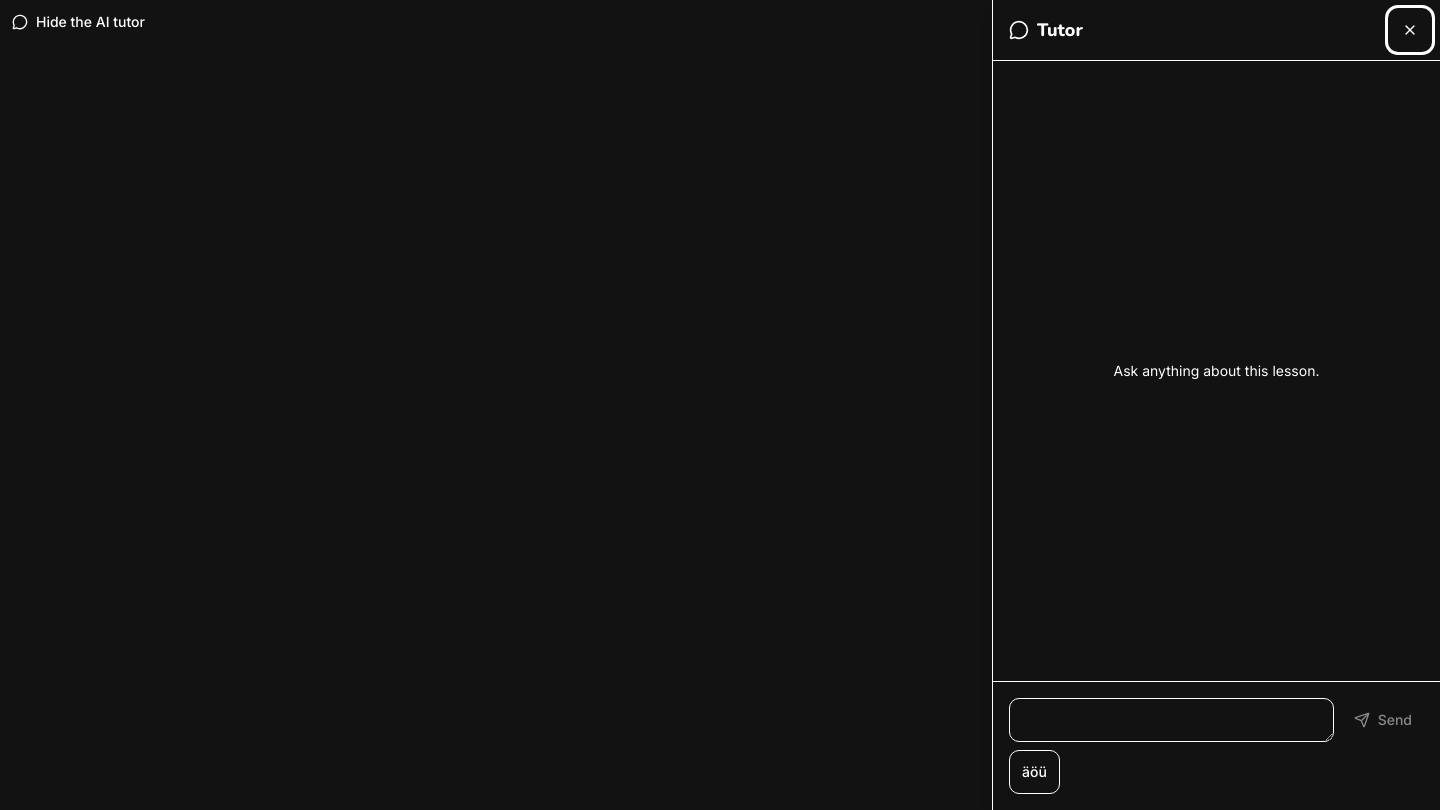
Test: LessonChat › keeps the message and shows a Settings link when the AI fails
The image size is (1440, 810).
Expected: the text "Ask anything about this lesson." is shown, [1114,361,1320,381]
Type "Hallo?" into the text box named "Your message" at coordinates (1171, 720), box [1009,698,1334,742]
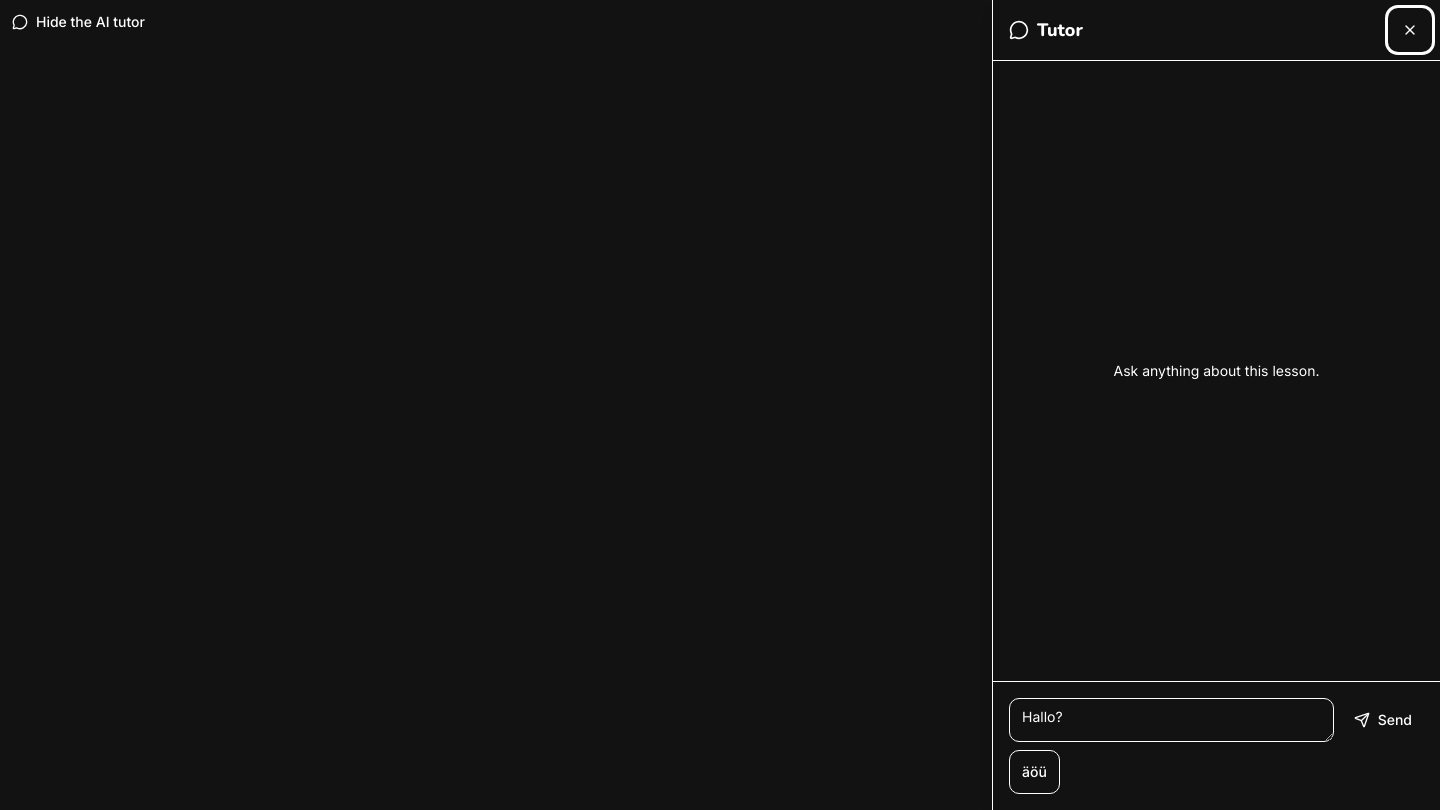
Click the button "Send" at coordinates (1383, 720), box [1342,698,1424,742]
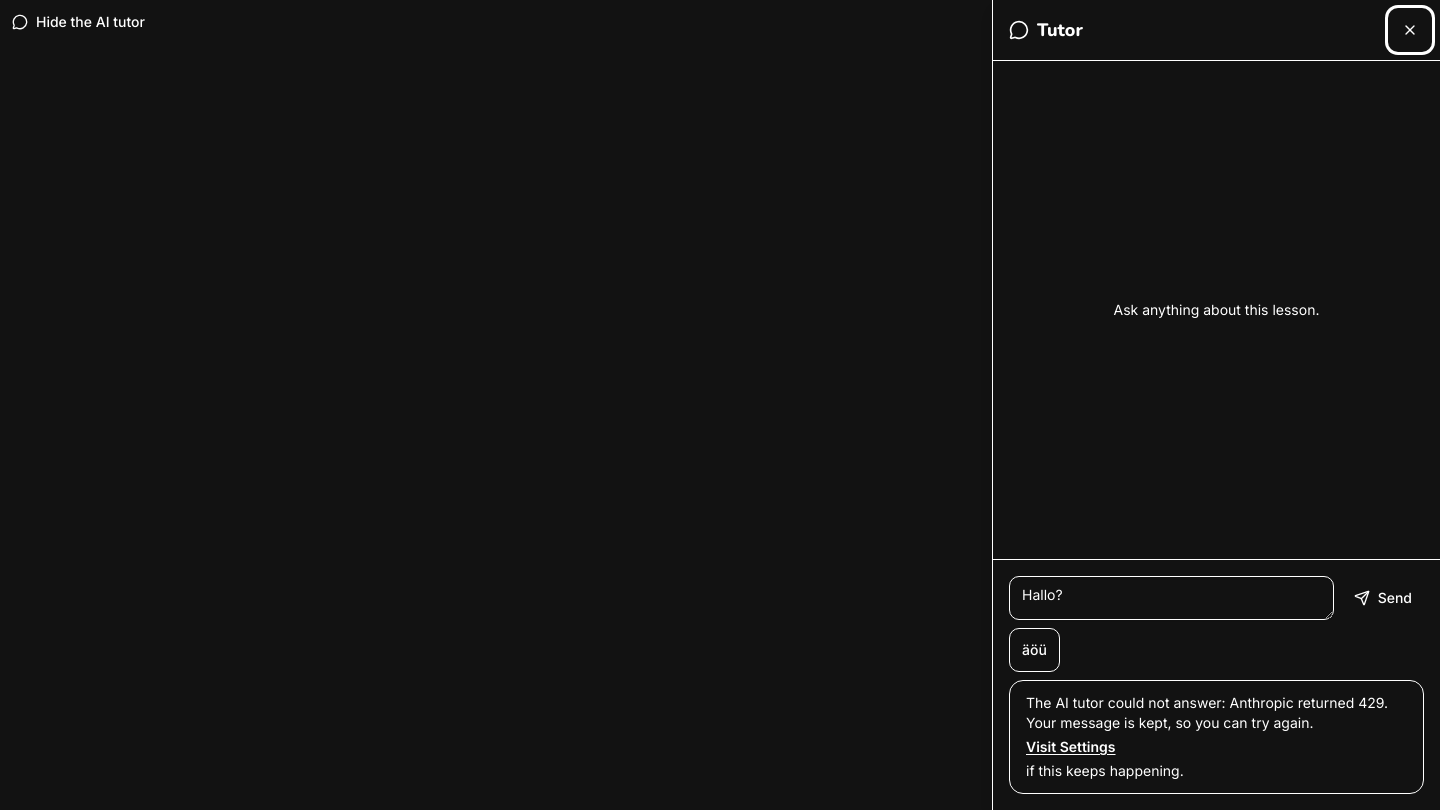
Now the button "Send" is enabled, box [1342,576,1424,620]
Now the message shows "The AI tutor could not answer: Anthropic returned 429.", box [1026,694,1388,731]
